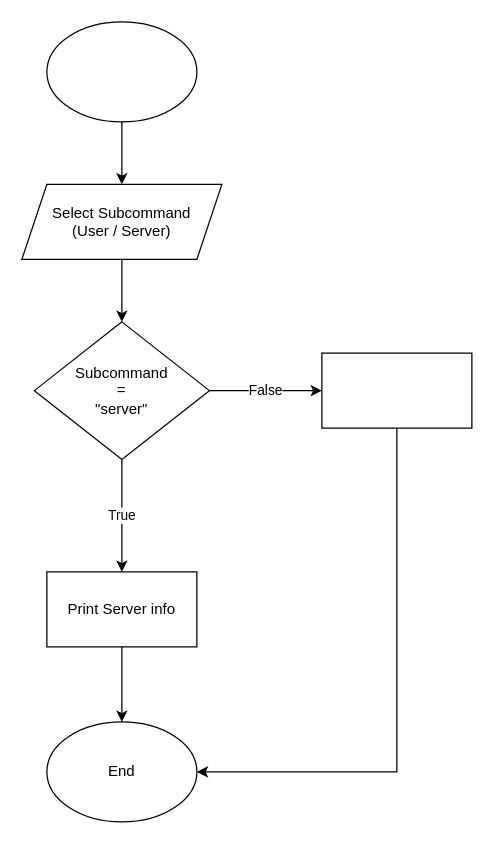
This 494x844 diagram has some shape labels left out. The centre of each missing label's shape, as x and y in pixels:
"Print User Info" belongs at (x=396, y=390).
"Start" belongs at (x=121, y=71).
